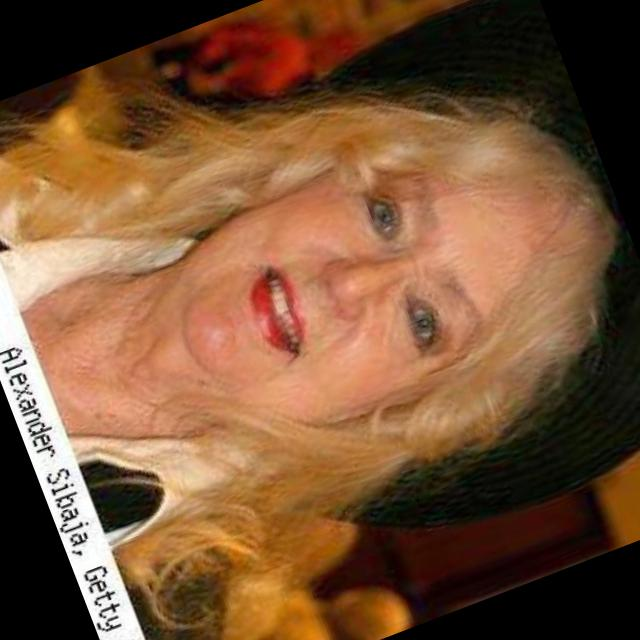bareface: (122, 30, 640, 515)
